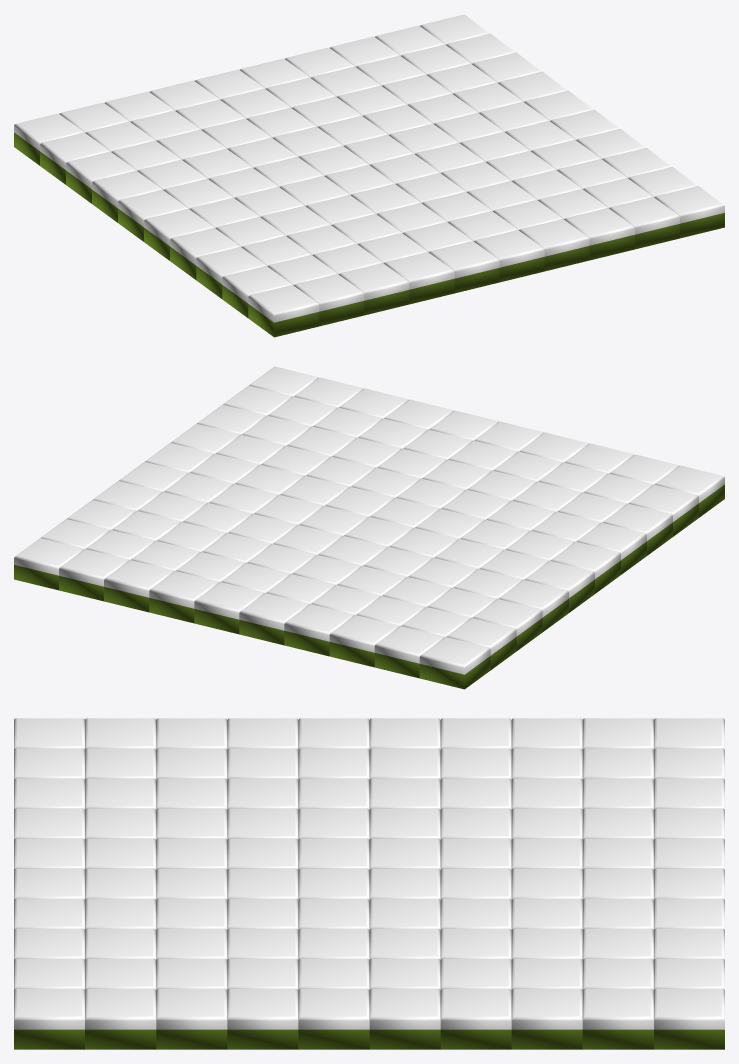
The picture shows the model from 3 angles, top to bottom: view 1: azimuth 30°, elevation 25°; view 2: azimuth 150°, elevation 25°; view 3: azimuth 270°, elevation 25°; orthographic projection. The views are drawn at different scales.
Visible parts, largest first — view 1: Floor2; view 2: Floor2; view 3: Floor2.
Part boxes in pixels (<box>): Floor2: <box>14,14,724,337</box>; Floor2: <box>14,366,724,689</box>; Floor2: <box>14,718,724,1049</box>.
Size of the model in its own units: 1000 by 50 by 1000.
